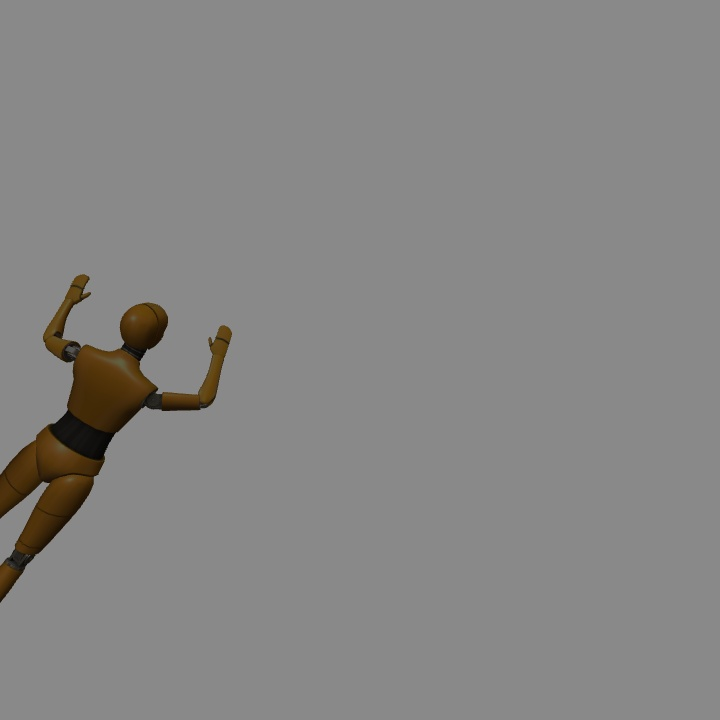victim: (1, 279, 230, 601)
